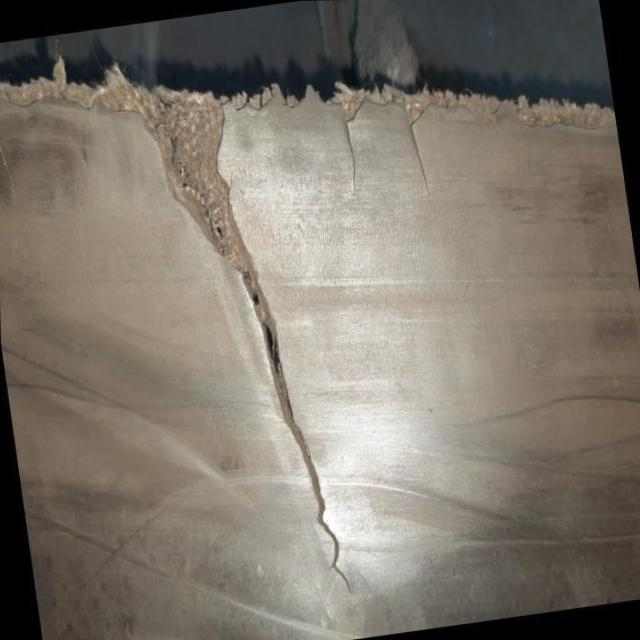Tear: (141, 101, 358, 595), (391, 104, 441, 197), (329, 96, 367, 184)
